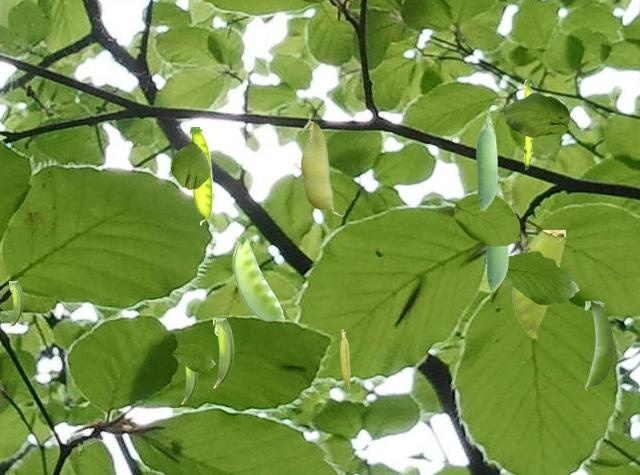pea: (512, 230, 564, 337), (232, 237, 283, 325), (300, 118, 343, 215), (585, 301, 612, 389), (486, 183, 507, 290), (190, 127, 211, 224), (476, 112, 496, 209), (213, 318, 234, 387), (524, 80, 536, 168), (9, 281, 23, 326), (181, 367, 198, 403), (340, 329, 349, 388)
